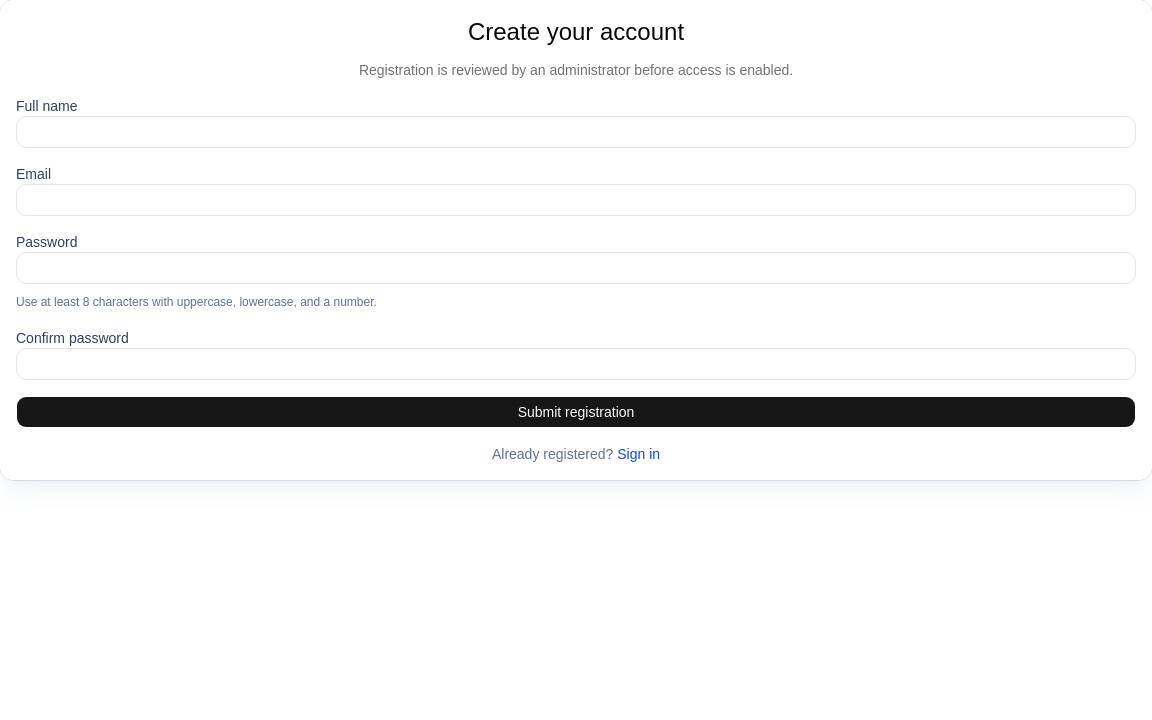
registration form › keeps the form usable and reports duplicate-email errors
Type "Duplicate Employee" into the field labelled "Full name".
click(576, 132); type("Duplicate Employee")  # box [16, 116, 1136, 148]
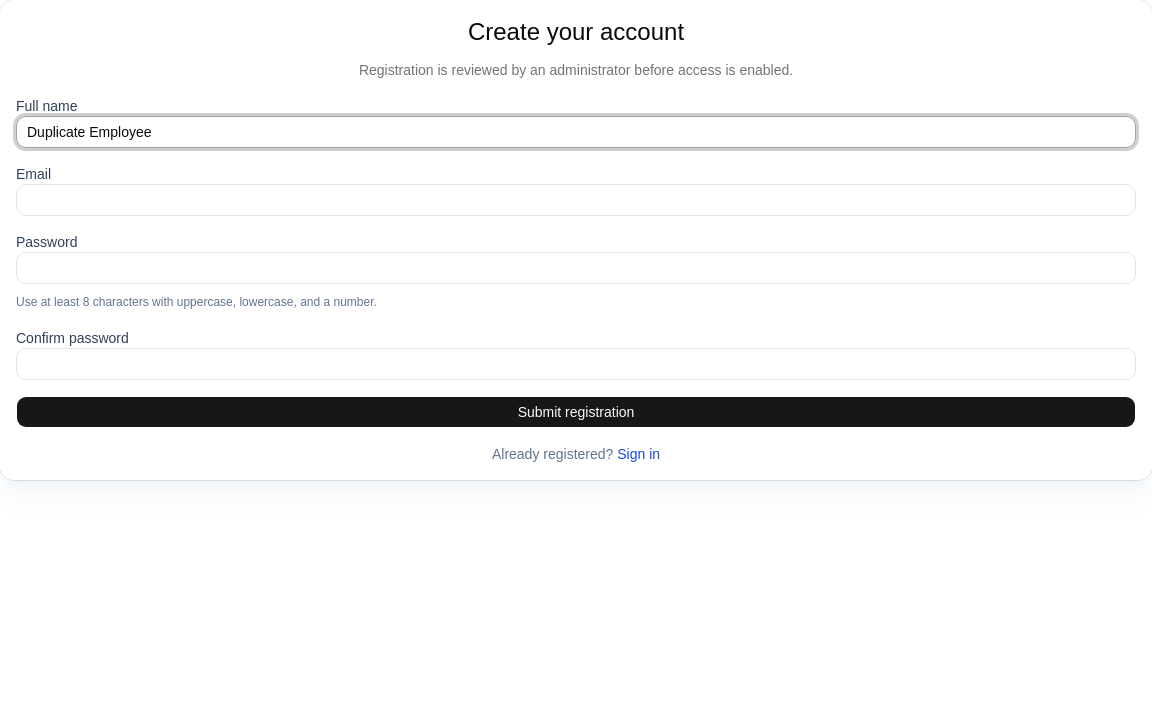
Type "duplicate@office.local" into the field labelled "Email".
click(576, 200); type("duplicate@office.local")  # box [16, 184, 1136, 216]
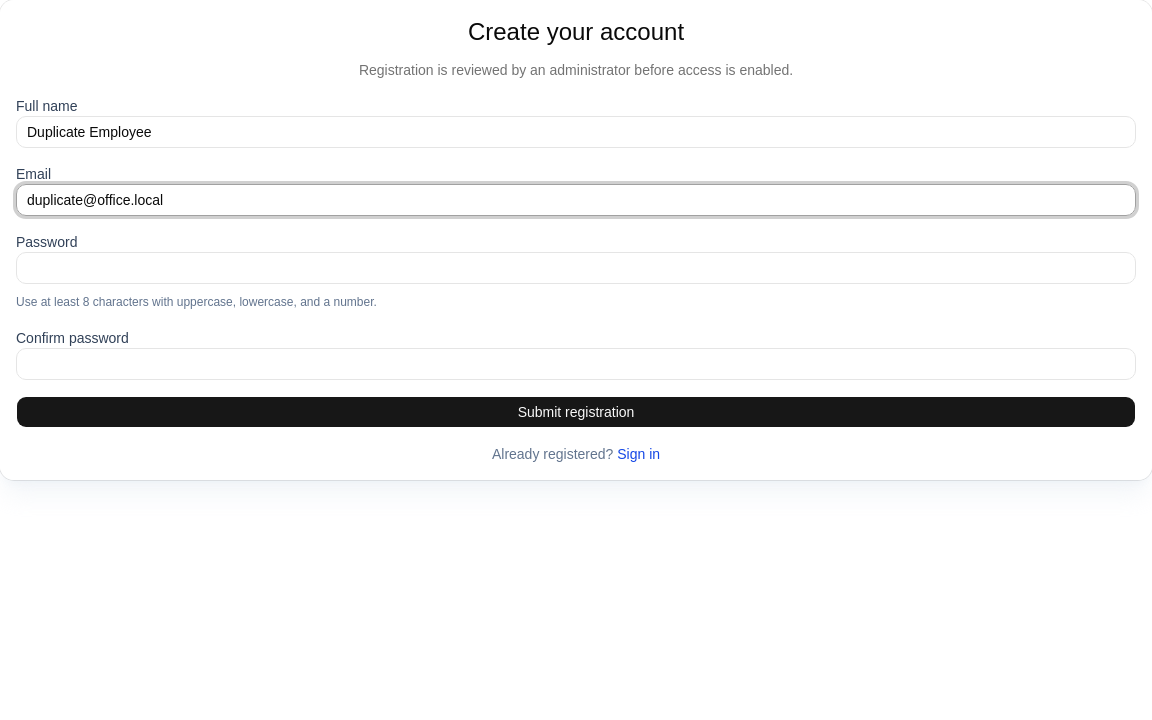
Type "Strong.Password.123" into the password field labelled "Password".
click(576, 268); type("Strong.Password.123")  # box [16, 252, 1136, 284]
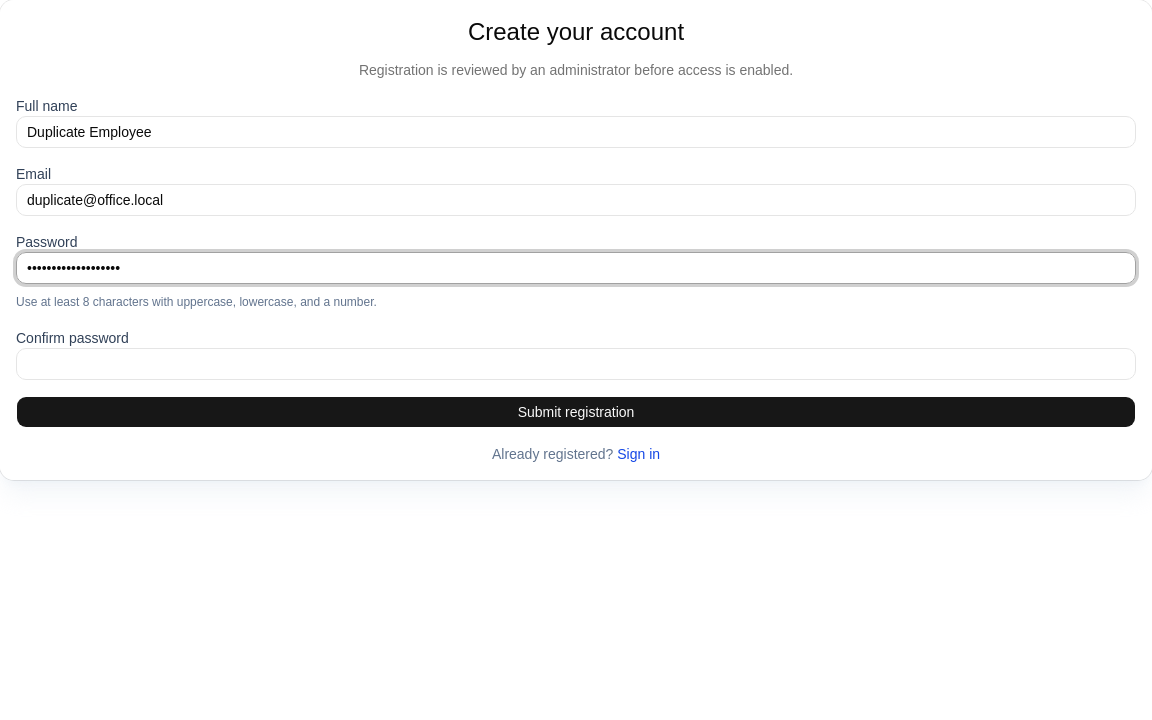
Type "Strong.Password.123" into the password field labelled "Confirm password".
click(576, 364); type("Strong.Password.123")  # box [16, 348, 1136, 380]
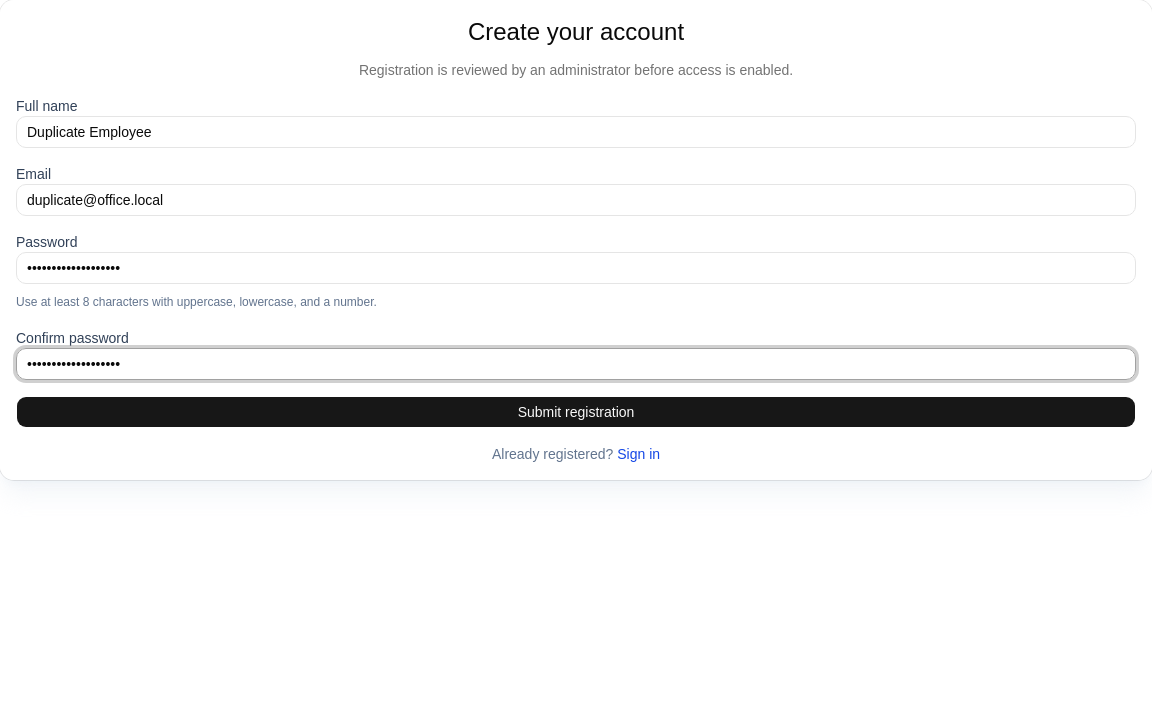
Click the button "Submit registration".
click(576, 412)  # box [16, 396, 1136, 428]
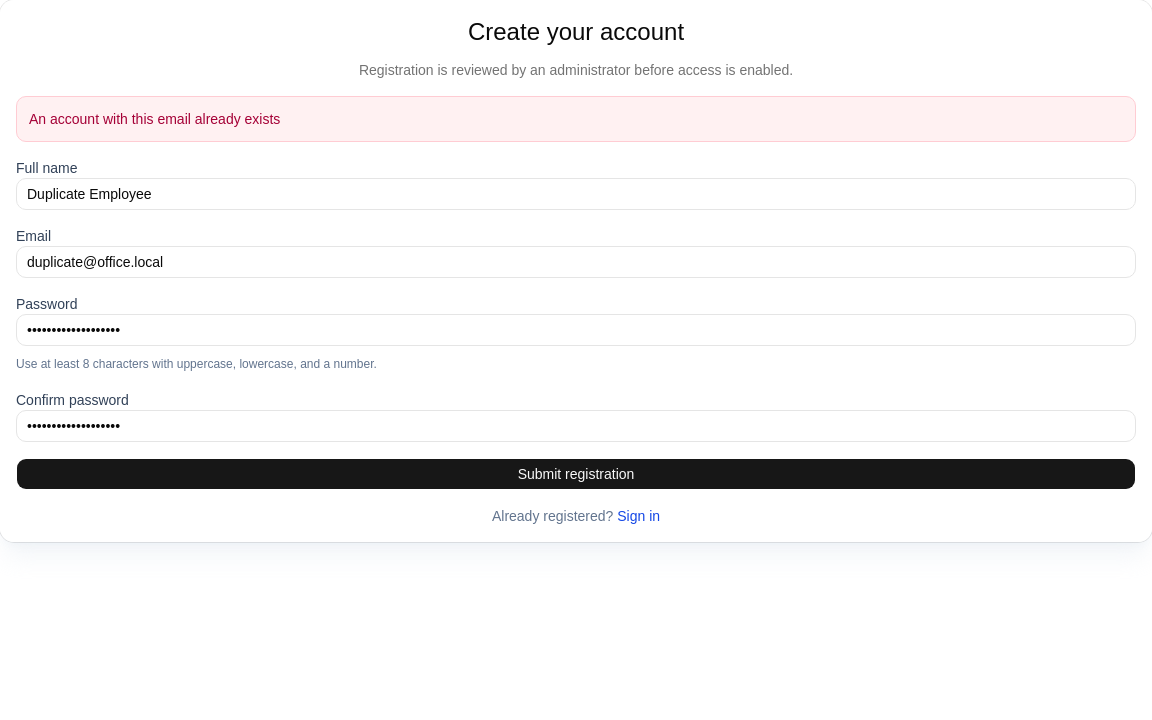
Expected: the message reads "An account with this email already exists", [29, 111, 280, 127]
